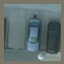car: (27, 17, 40, 51), (46, 20, 59, 54)
